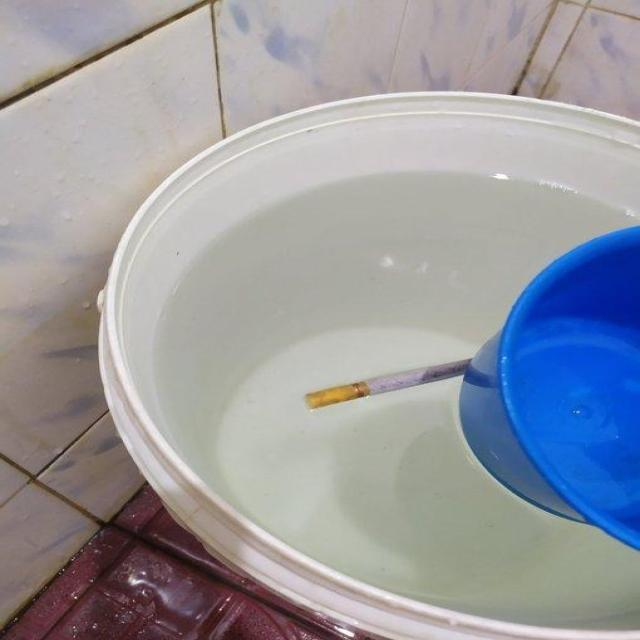rokok: (298, 347, 486, 418)
